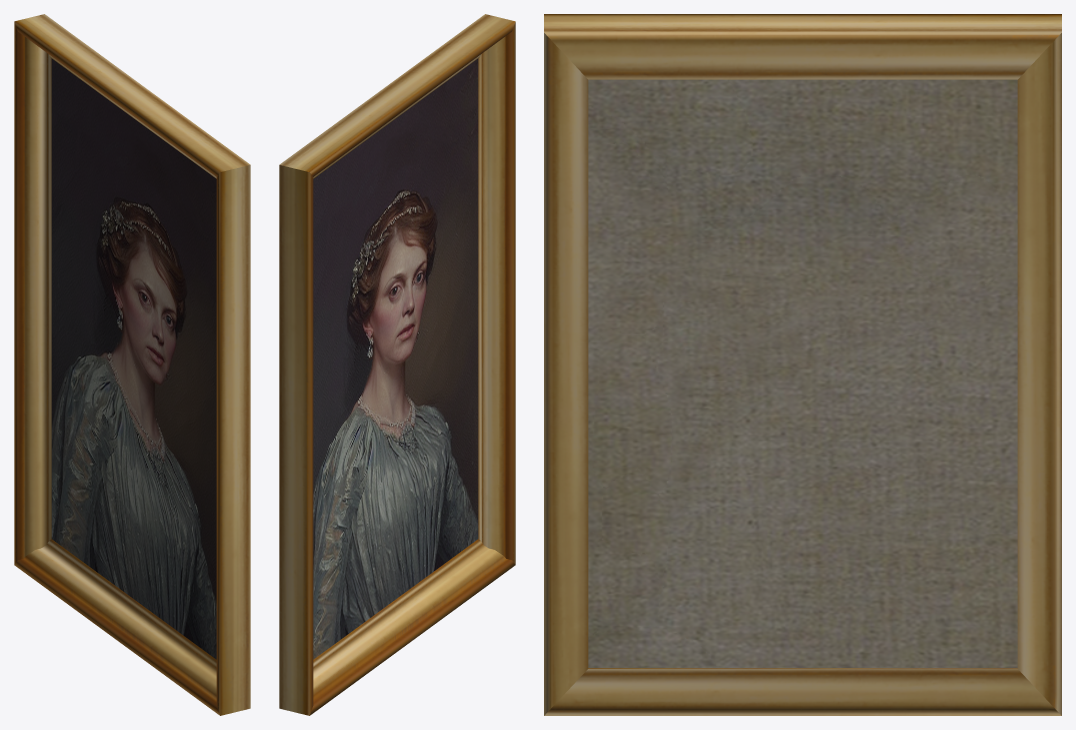
Rendered from PaintingPorttraitDoctor_1 1.fbx.
The picture shows the model from 3 angles, left to right: view 1: azimuth 30°, elevation 25°; view 2: azimuth 150°, elevation 25°; view 3: azimuth 270°, elevation 25°; orthographic projection. The views are drawn at different scales.
Parts seen in each view (by area): view 1: PaintingTall1, PaintingFrame1; view 2: PaintingTall1, PaintingFrame1; view 3: PaintingBackside1, PaintingFrame1.
Part boxes in pixels (x1,y1,x2,y2): PaintingTall1: [51, 58, 216, 659]; PaintingFrame1: [14, 14, 250, 715]; PaintingTall1: [313, 58, 478, 659]; PaintingFrame1: [279, 14, 515, 715]; PaintingBackside1: [588, 79, 1017, 667]; PaintingFrame1: [544, 14, 1061, 715].
Size of the model in its own units: 15.61 by 267 by 183.
3 materials, 3 textured.
